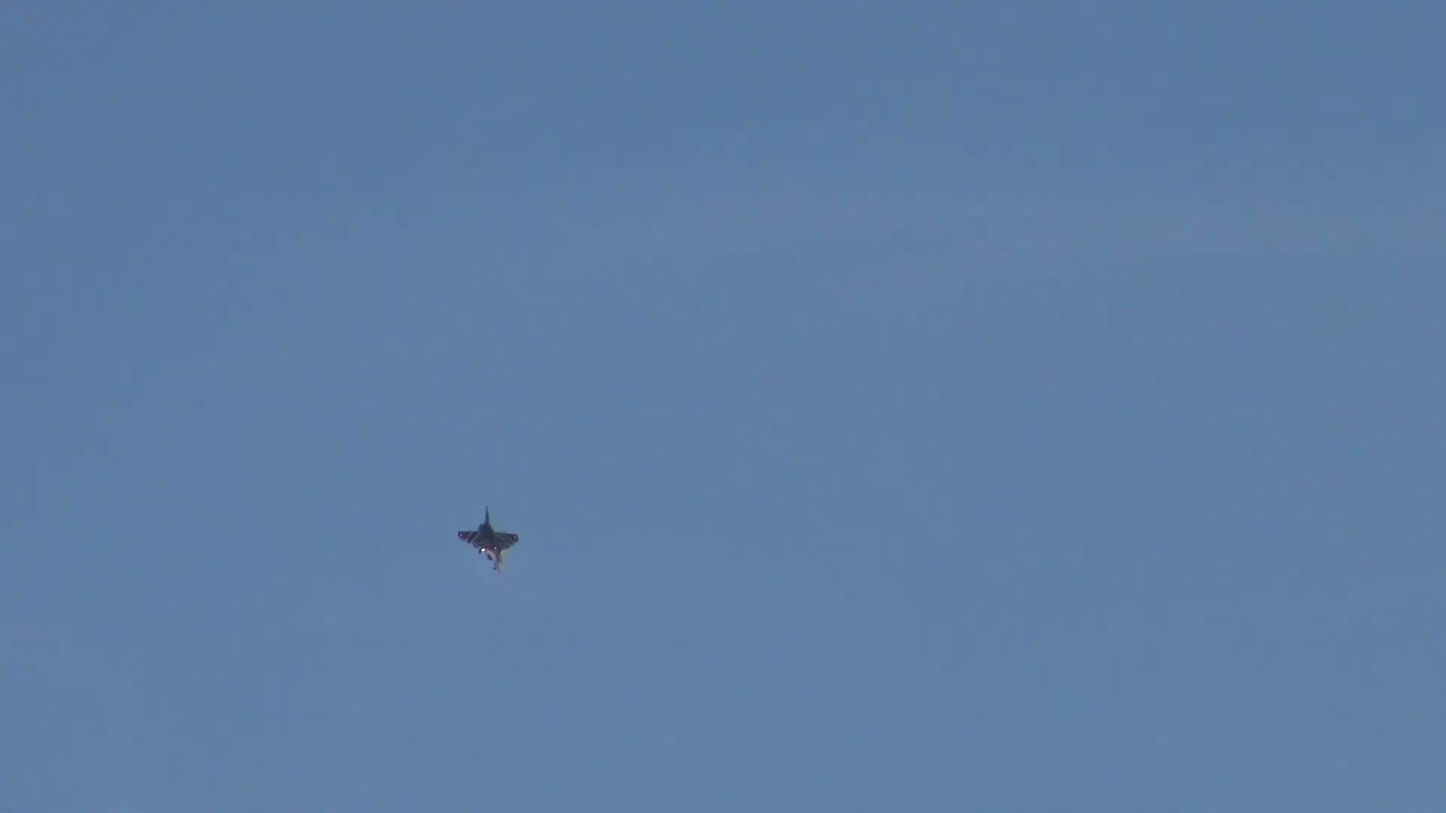Rafale: (456, 504, 524, 574)
